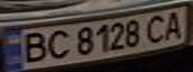1: (93, 20, 112, 54)
2: (109, 19, 130, 52)
8: (72, 24, 96, 56), (124, 17, 148, 48)
A: (160, 9, 190, 40)
B: (15, 30, 51, 65)
C: (42, 28, 72, 61), (142, 12, 172, 45)
